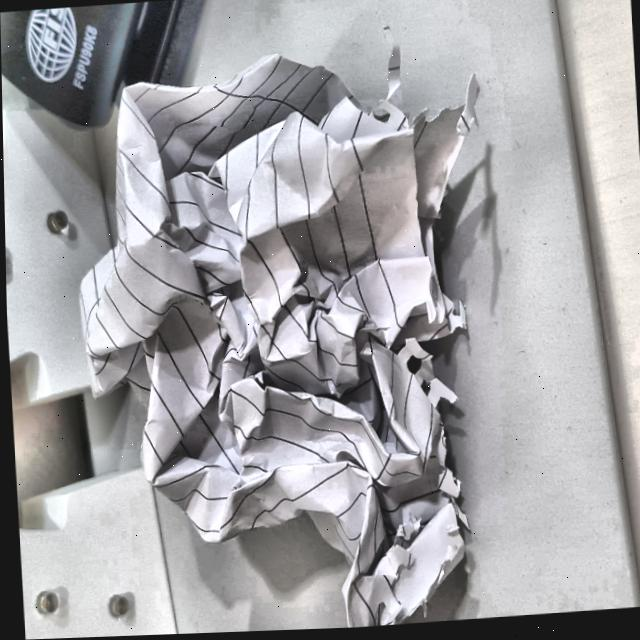paper: (61, 55, 481, 631)
